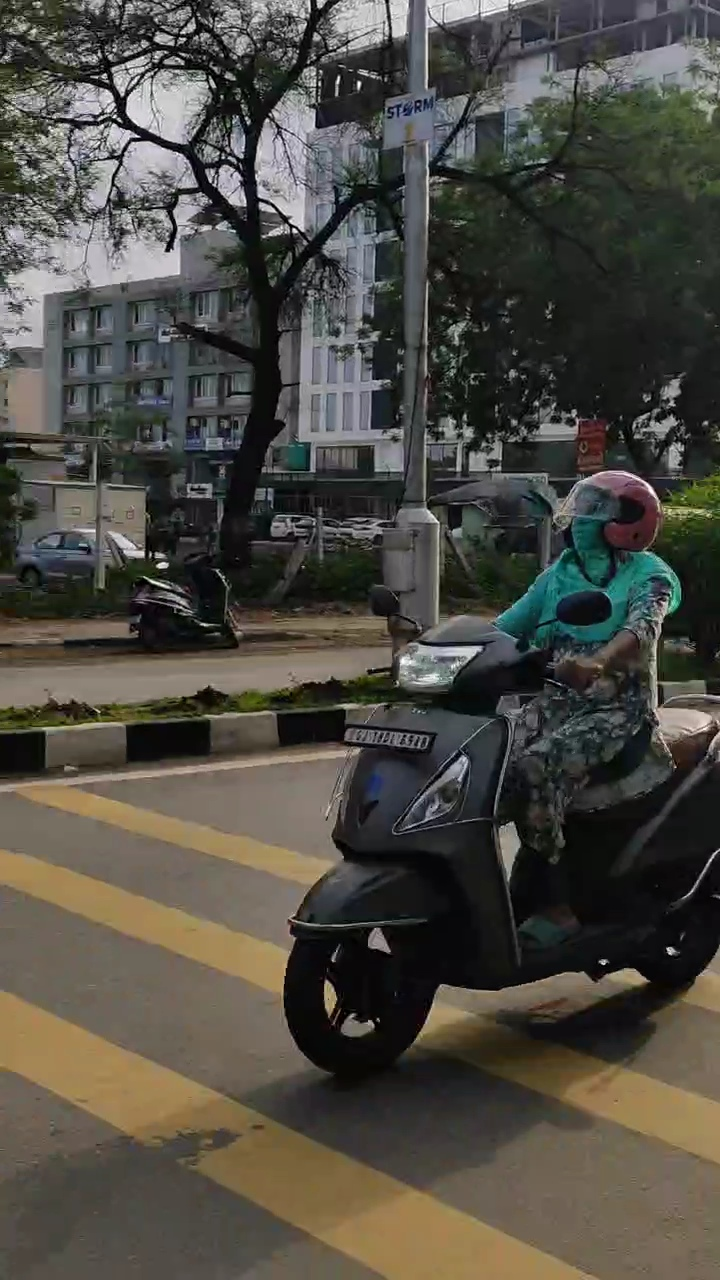BikeWithRider: (262, 449, 720, 1102)
Helmet: (541, 454, 667, 569)
